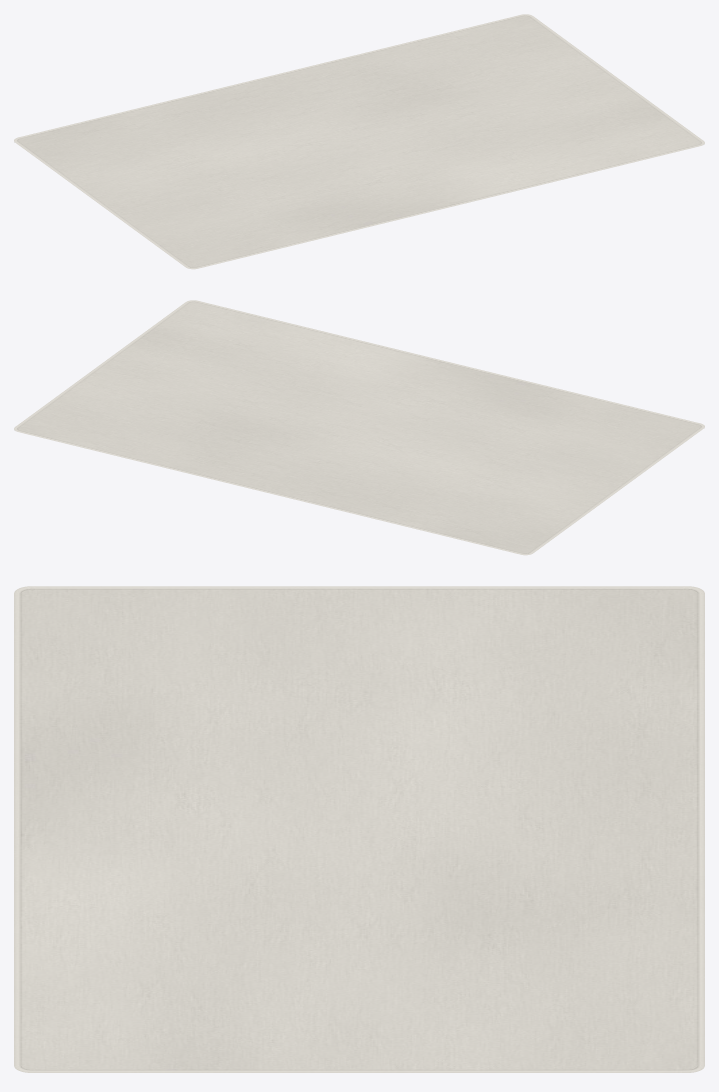
Rendered from ivory_widehall_r90.glb.
3 views of the same model, one above another, from view 1: azimuth 30°, elevation 25°; view 2: azimuth 150°, elevation 25°; view 3: azimuth 270°, elevation 25° (orthographic). The views are drawn at different scales.
Parts seen in each view (by area): view 1: reliv_ivory_widehall_r90; view 2: reliv_ivory_widehall_r90; view 3: reliv_ivory_widehall_r90.
Part boxes in pixels (box(x1,y1,x2,y2)): reliv_ivory_widehall_r90: box(14, 14, 704, 269); reliv_ivory_widehall_r90: box(14, 300, 704, 555); reliv_ivory_widehall_r90: box(14, 586, 704, 1072).
Size of the model in its own units: 2 by 0.009 by 1.2.
2 materials, 1 textured.
